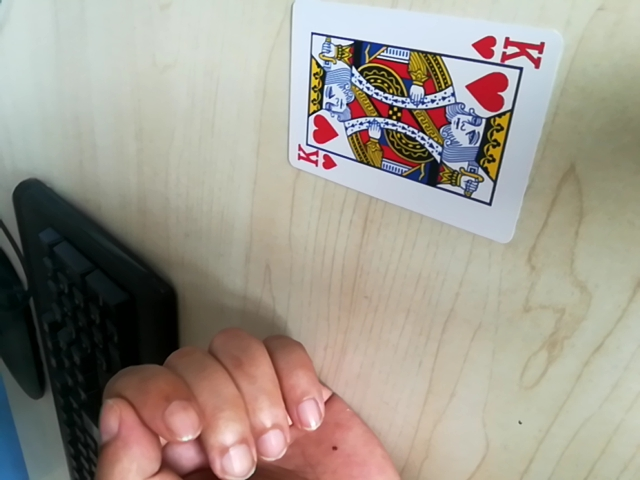hx k: (475, 28, 548, 69), (292, 145, 340, 174)
